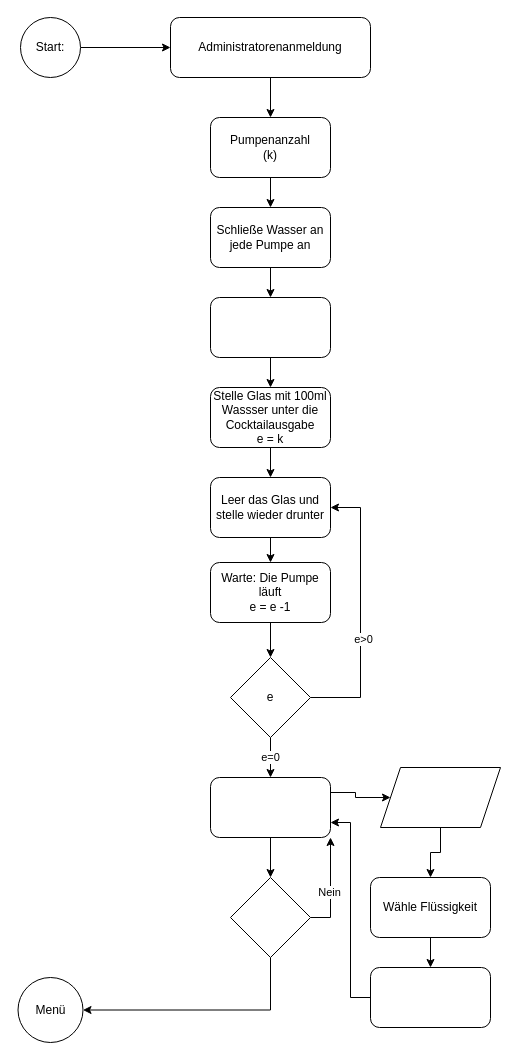
Image size: 518x1060. Some labels were removed from this diagram. Each missing label, with the centre of its shape:
Dialog Fenster mit k aufgelisteten Slots (orange: frei, gün: belegt): pixel 270 807
Gib Volumen an: pixel 430 997
Sind alle Slots belegt?: pixel 270 917
Stelle Glas ohne Flüssigkeit unter die Cocktailausgabe: pixel 270 327
Wähle einen Slot aus: pixel 440 797
